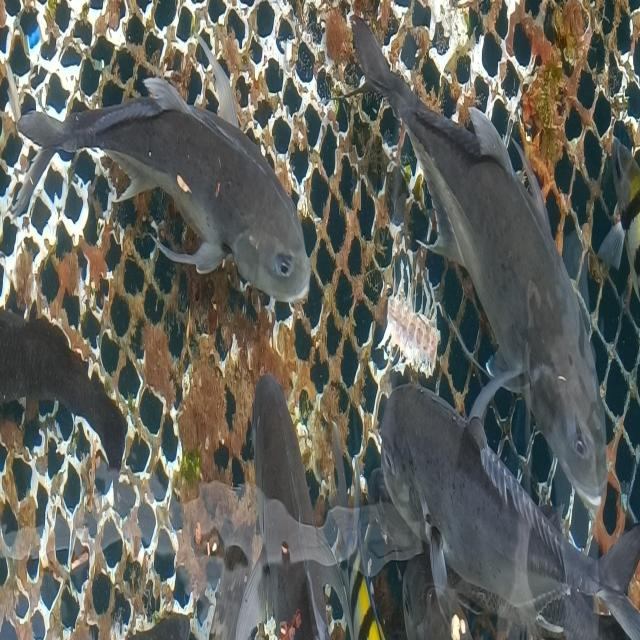ikan: (351, 28, 614, 499), (15, 44, 314, 316), (239, 343, 325, 576)
